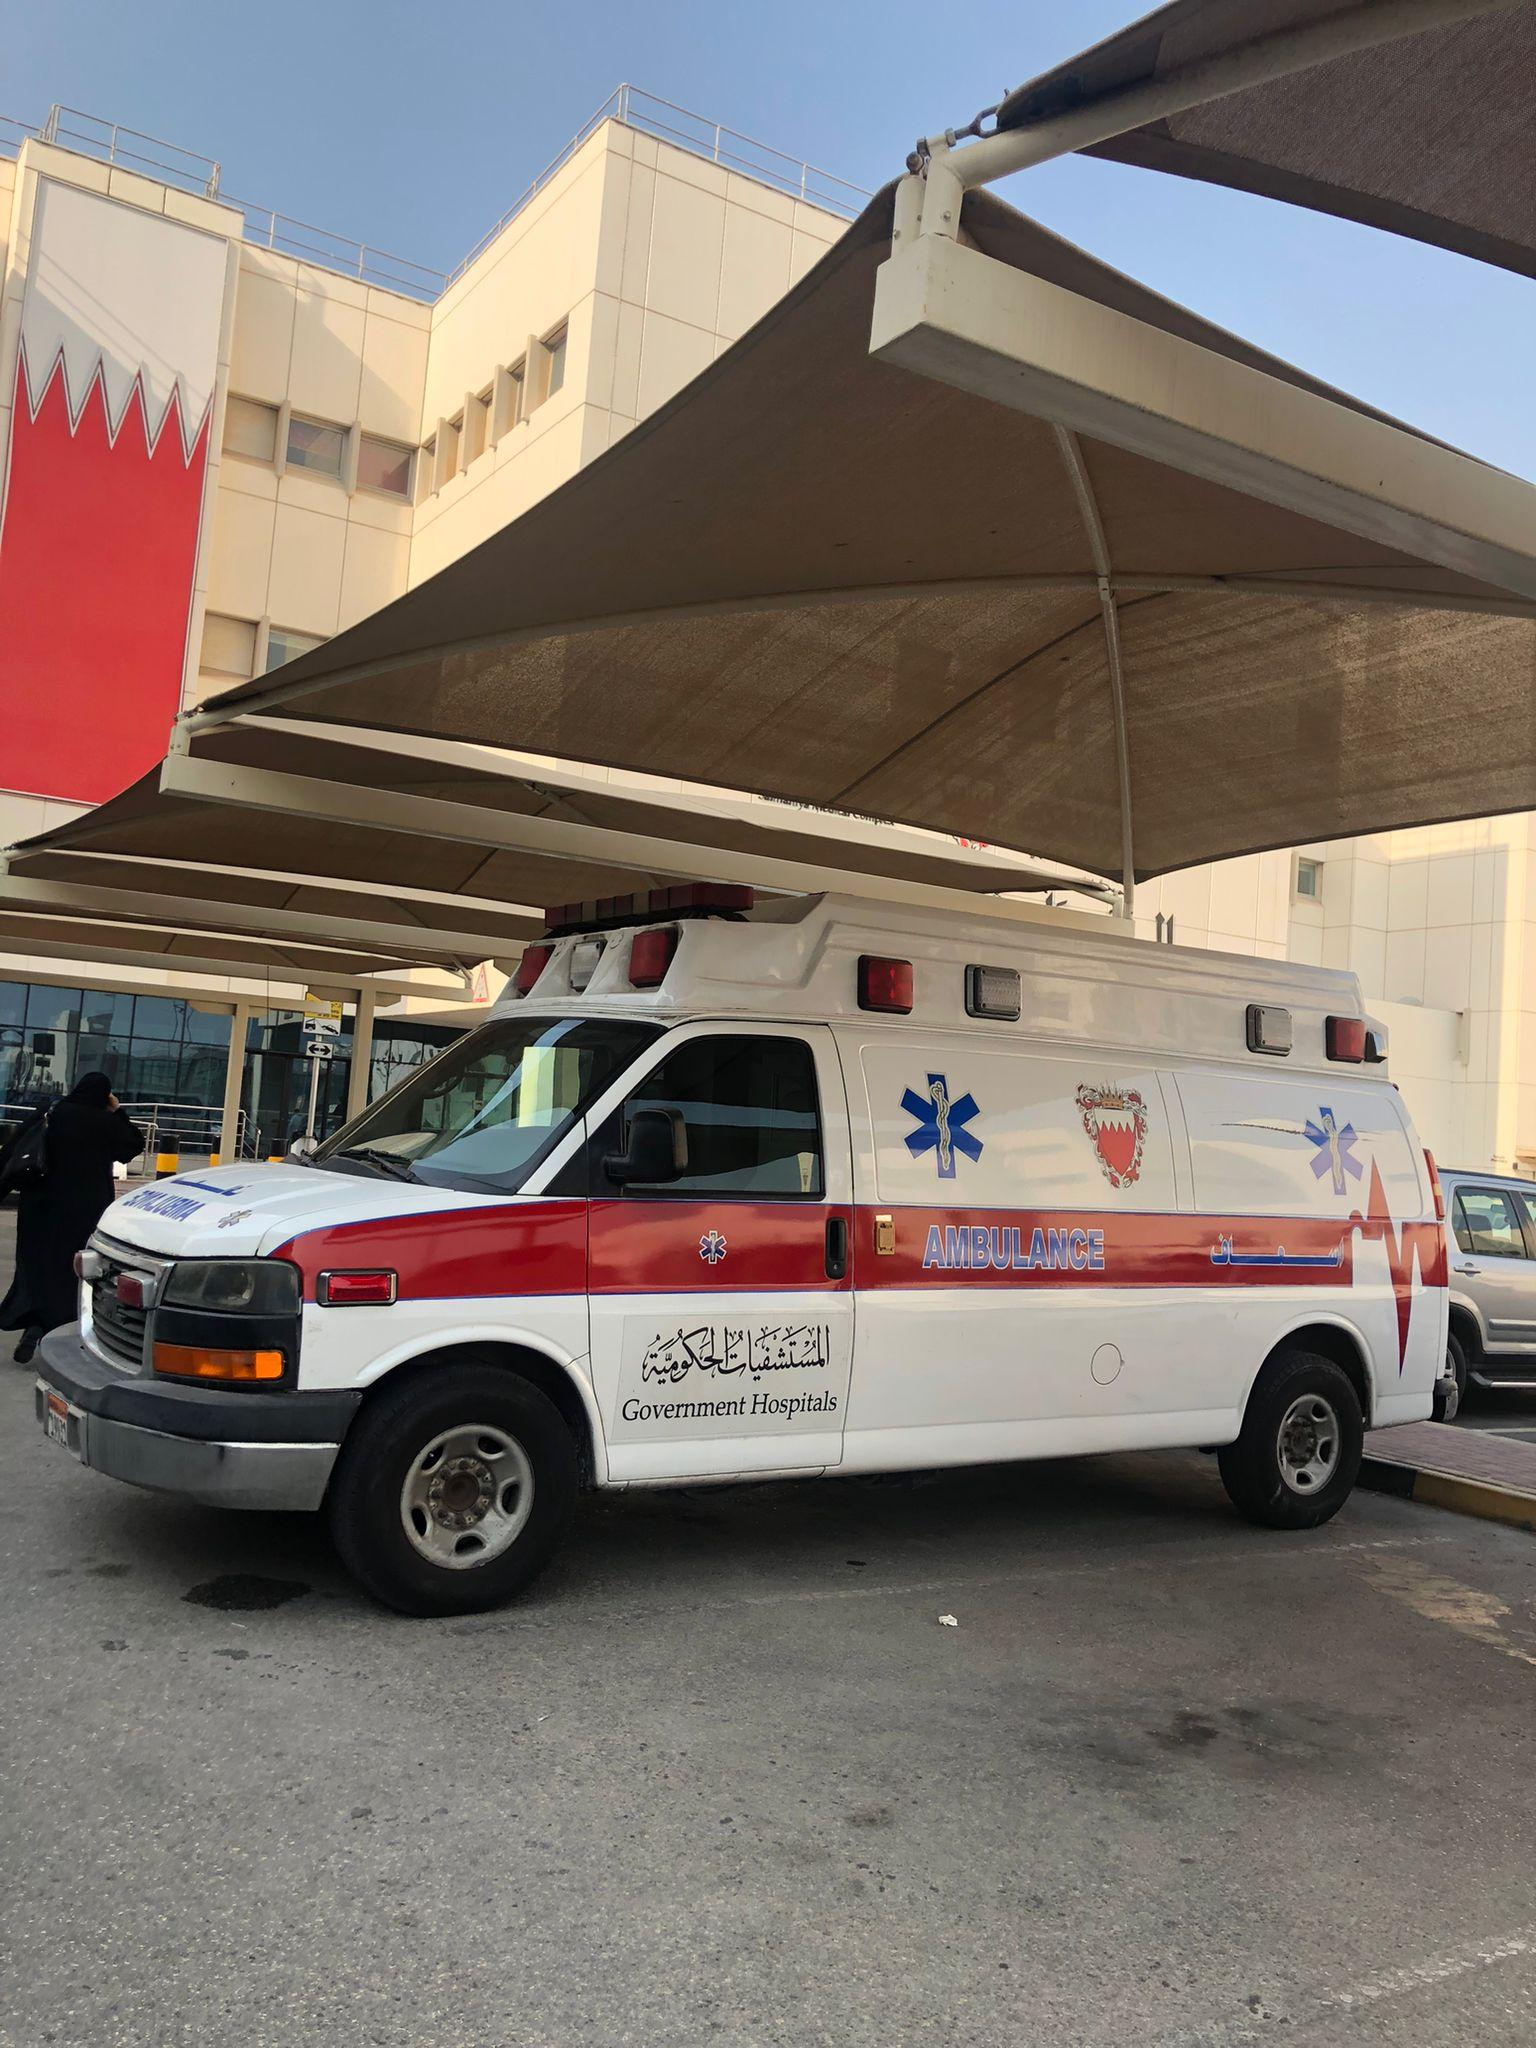ambulance_off: (34, 880, 1452, 1621)
